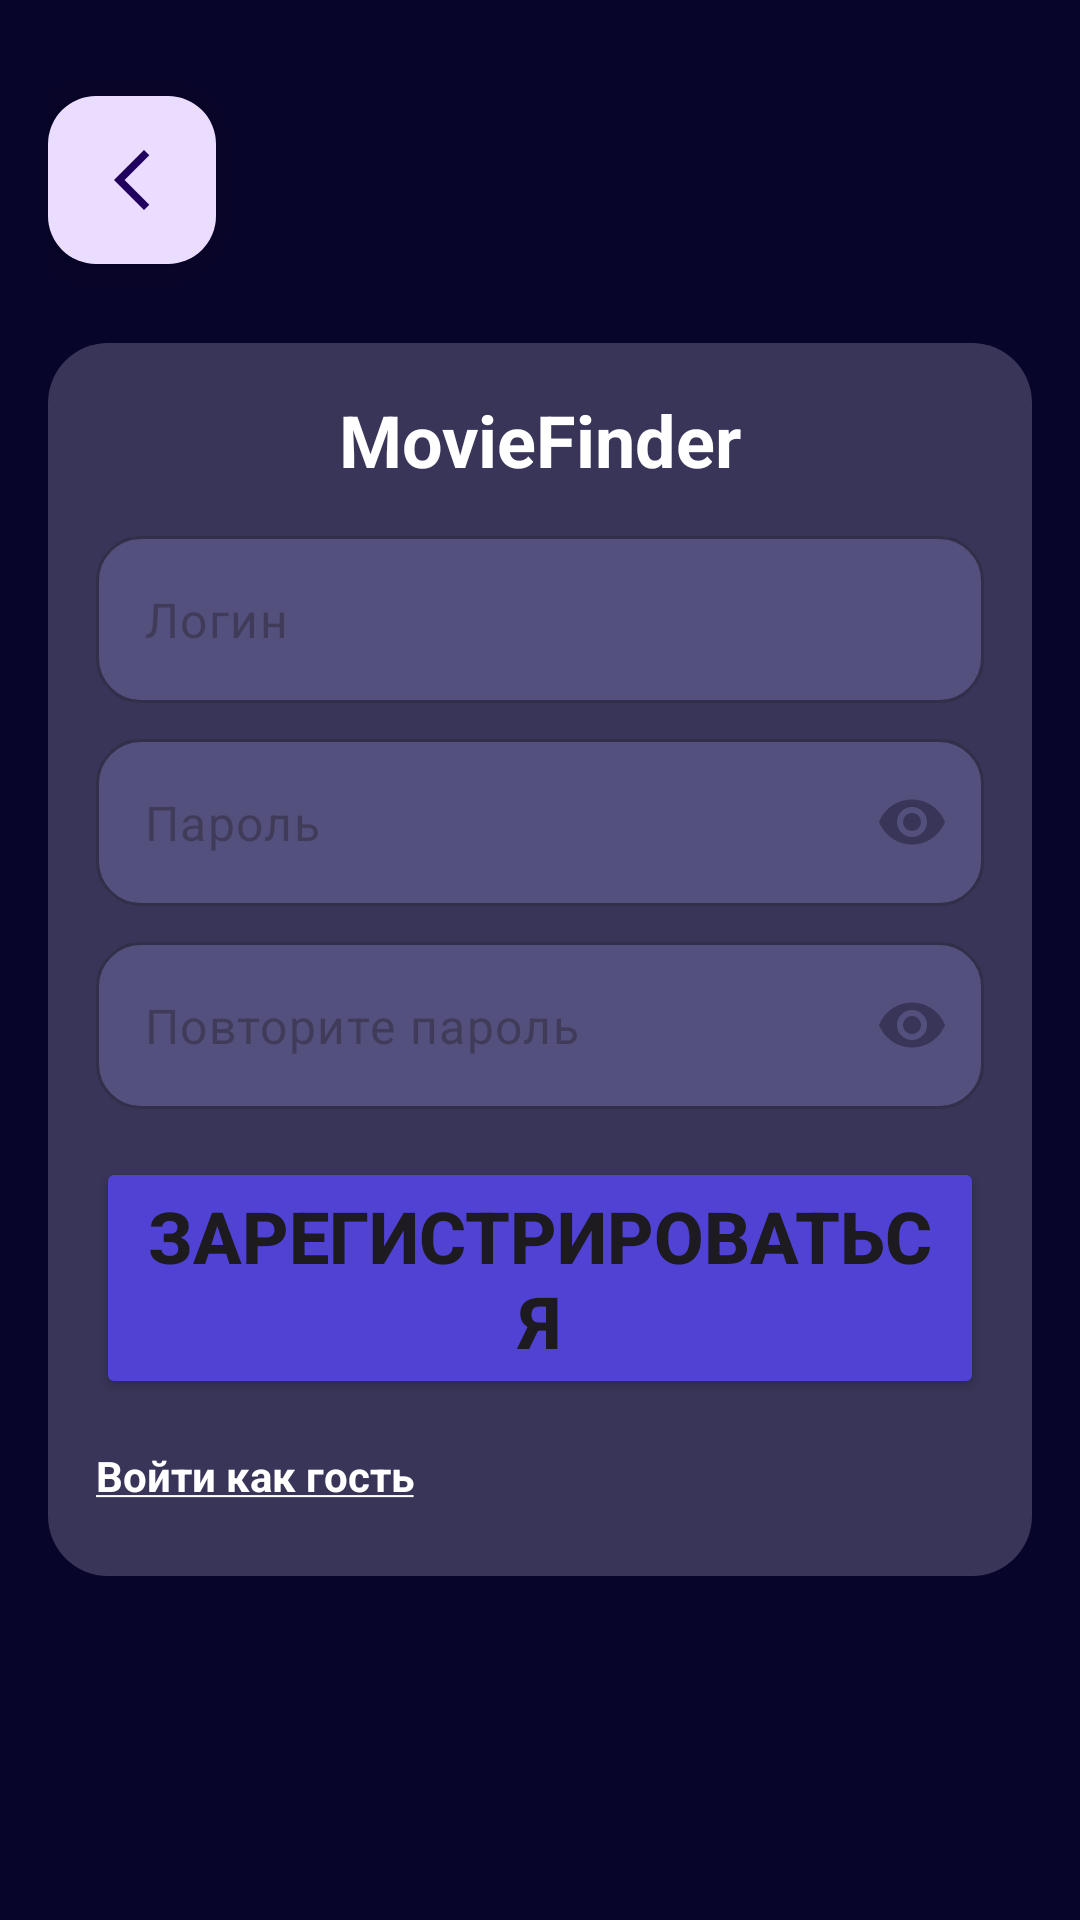

Point at icon controls on the screen. Image size 1080px x 1920px, points as [x,y].
arrow back: [132,180]
